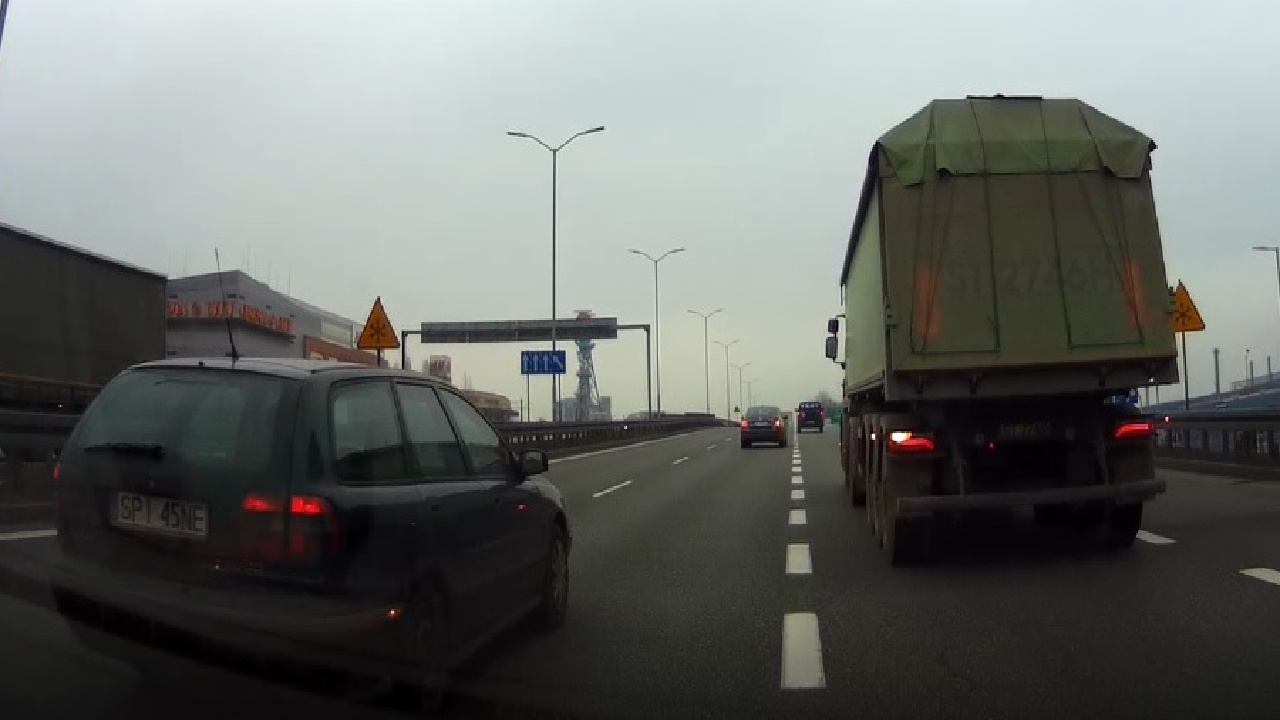A32: (348, 294, 407, 352), (1162, 280, 1219, 333)
